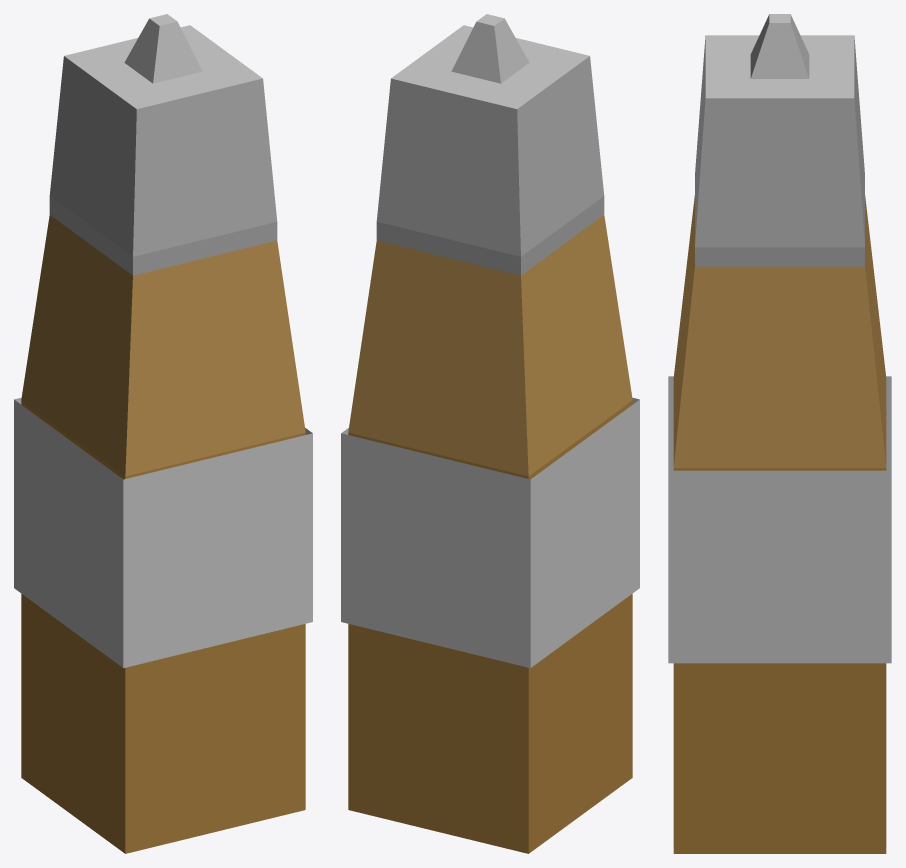
The model's file is revolver_1bcal.obj.
3 renders of one model, left to right at view 1: azimuth 30°, elevation 25°; view 2: azimuth 150°, elevation 25°; view 3: azimuth 270°, elevation 25°, orthographic. The views are drawn at different scales.
Parts seen in each view (by area): view 1: casing, paint, core_canister, core_piercing, core_softpoint; view 2: casing, paint, core_canister, core_piercing, core_softpoint; view 3: casing, paint, core_canister, core_piercing, core_softpoint.
Part boxes in pixels (left/top/right/bottom): casing: left=21, top=215, right=305, bottom=853; paint: left=14, top=397, right=312, bottom=668; core_canister: left=49, top=25, right=277, bottom=256; core_piercing: left=49, top=14, right=277, bottom=275; core_softpoint: left=93, top=44, right=231, bottom=96; casing: left=348, top=215, right=632, bottom=853; paint: left=341, top=397, right=639, bottom=668; core_canister: left=376, top=25, right=604, bottom=256; core_piercing: left=376, top=14, right=604, bottom=275; core_softpoint: left=422, top=41, right=560, bottom=96; casing: left=673, top=195, right=886, bottom=853; paint: left=668, top=376, right=891, bottom=663; core_canister: left=695, top=35, right=864, bottom=247; core_piercing: left=695, top=14, right=864, bottom=266; core_softpoint: left=726, top=44, right=833, bottom=89.
Size of the model in its own units: 0.0656 by 0.2562 by 0.0656.
